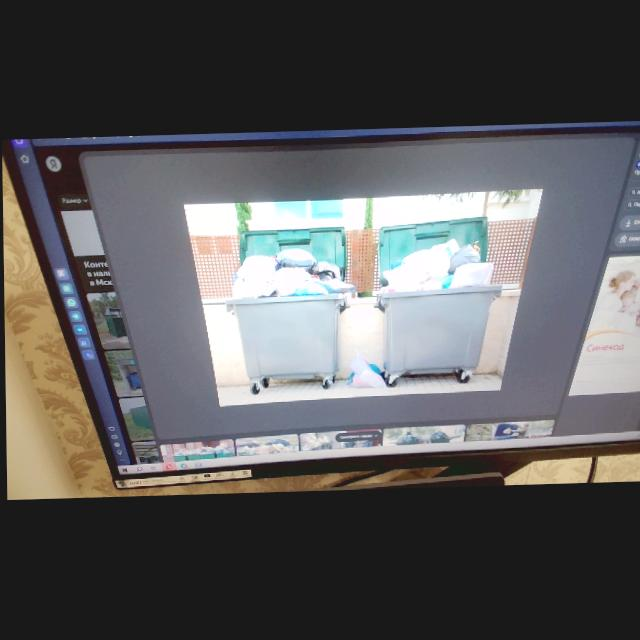Trash_Can_Full: (378, 238, 503, 376), (224, 251, 346, 381)
